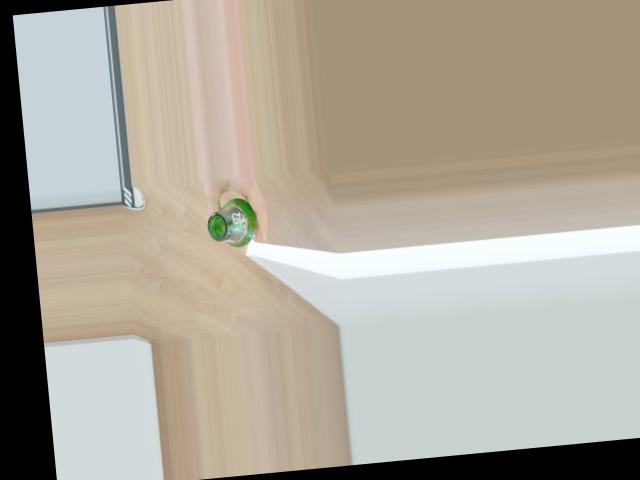beer: (205, 195, 258, 250)
